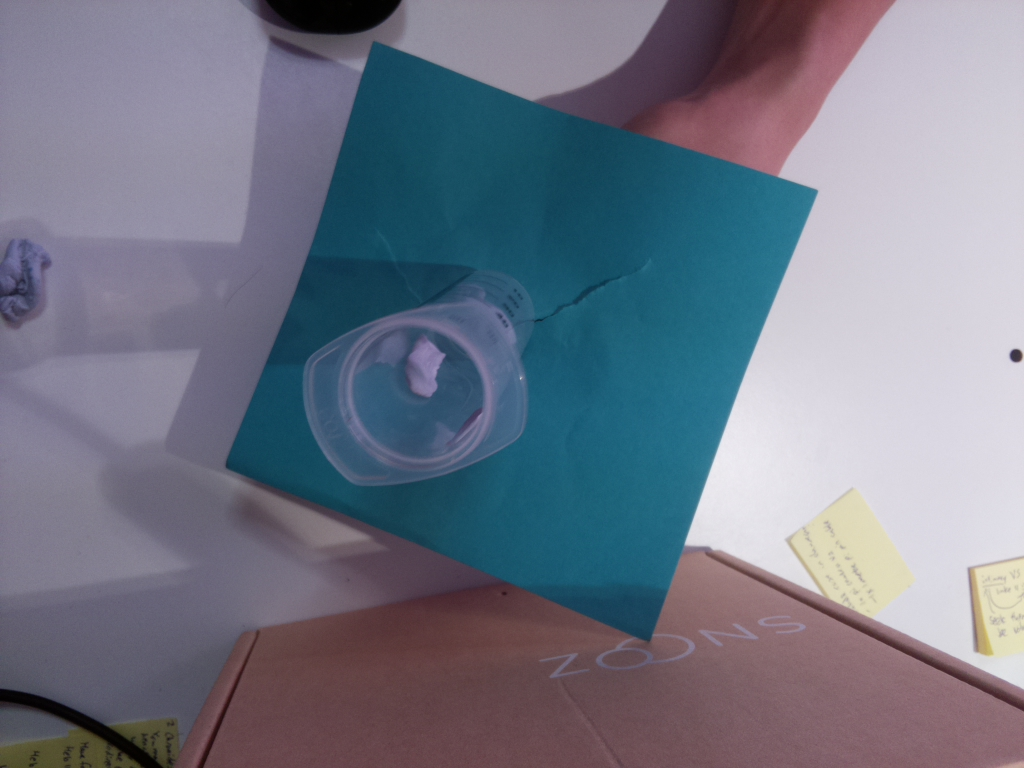dirty: (301, 298, 528, 484)
